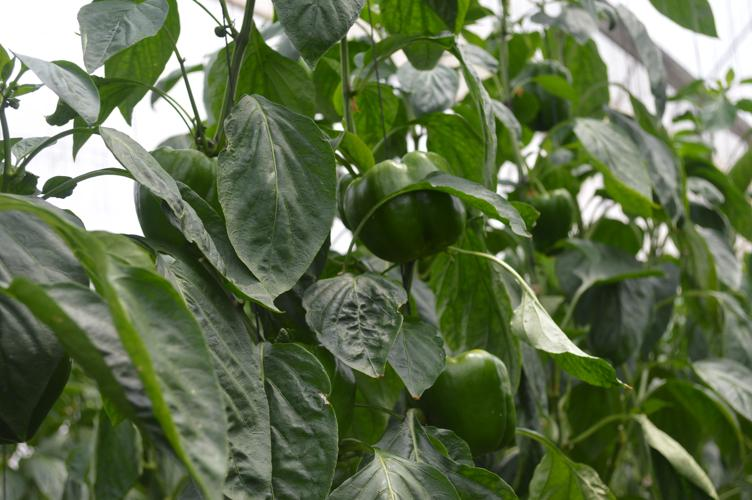BellPepper: (345, 151, 464, 260), (124, 147, 231, 257), (428, 352, 523, 452), (513, 62, 576, 127), (521, 187, 575, 245)
